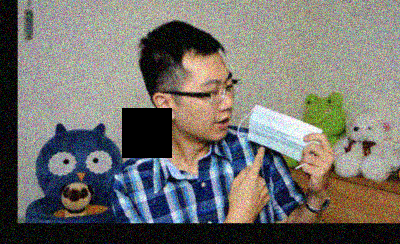without_mask: (176, 69, 234, 143)
